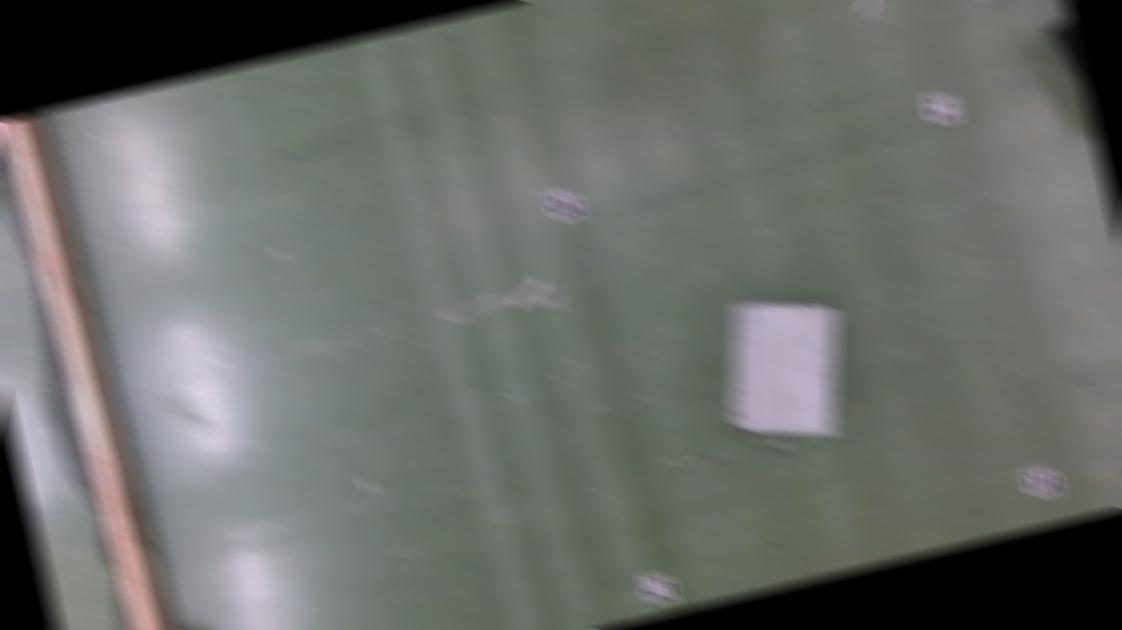probes: (506, 274, 550, 308), (851, 0, 889, 17)
rako: (704, 280, 866, 455), (1043, 2, 1098, 136)
